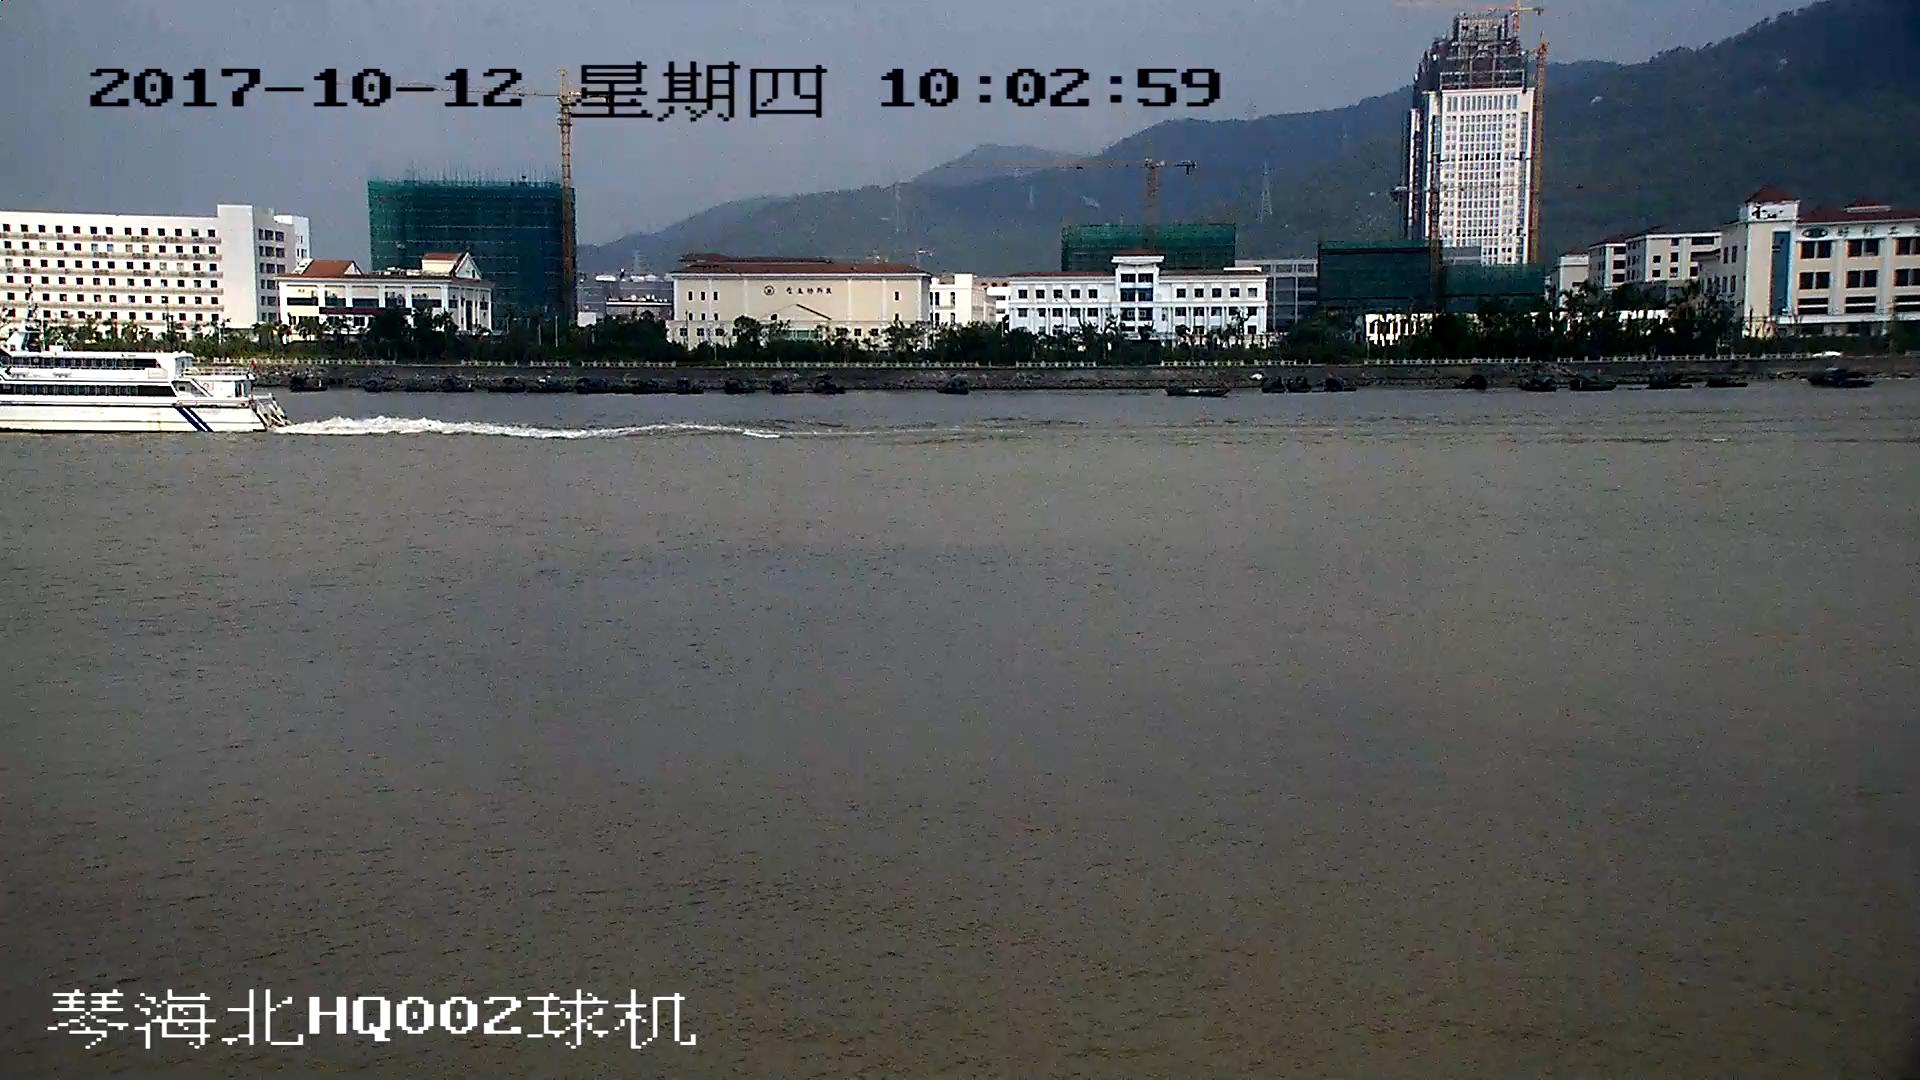passenger ship: (1, 343, 285, 433)
